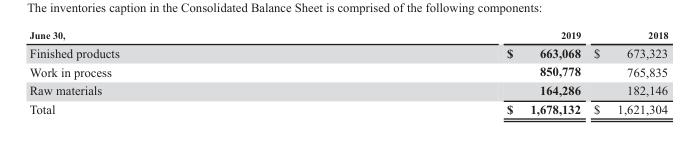table: (28, 29, 667, 116)
table column: (28, 29, 312, 116), (312, 29, 586, 116), (586, 29, 667, 116)
table column header: (28, 29, 667, 42)
table row: (28, 42, 667, 61), (28, 61, 667, 80), (28, 80, 667, 99), (28, 99, 667, 116), (28, 29, 667, 42)
